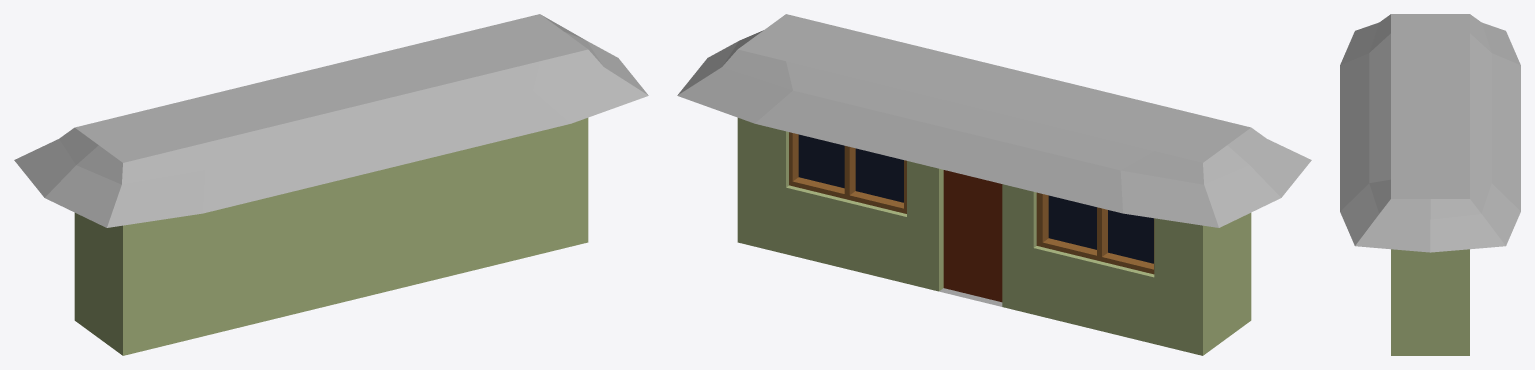
The model's file is house_6.fbx.
The picture shows the model from 3 angles, left to right: view 1: azimuth 30°, elevation 25°; view 2: azimuth 150°, elevation 25°; view 3: azimuth 270°, elevation 25°; orthographic projection. The views are drawn at different scales.
Parts seen in each view (by area): view 1: Cubo.001; view 2: Cubo.001; view 3: Cubo.001.
Boxes of the visible parts, left/top/right/bottom form: Cubo.001: left=14, top=14, right=648, bottom=355; Cubo.001: left=677, top=14, right=1311, bottom=355; Cubo.001: left=1340, top=14, right=1520, bottom=355.
Size of the model in its own units: 8678 by 2911 by 2789.
